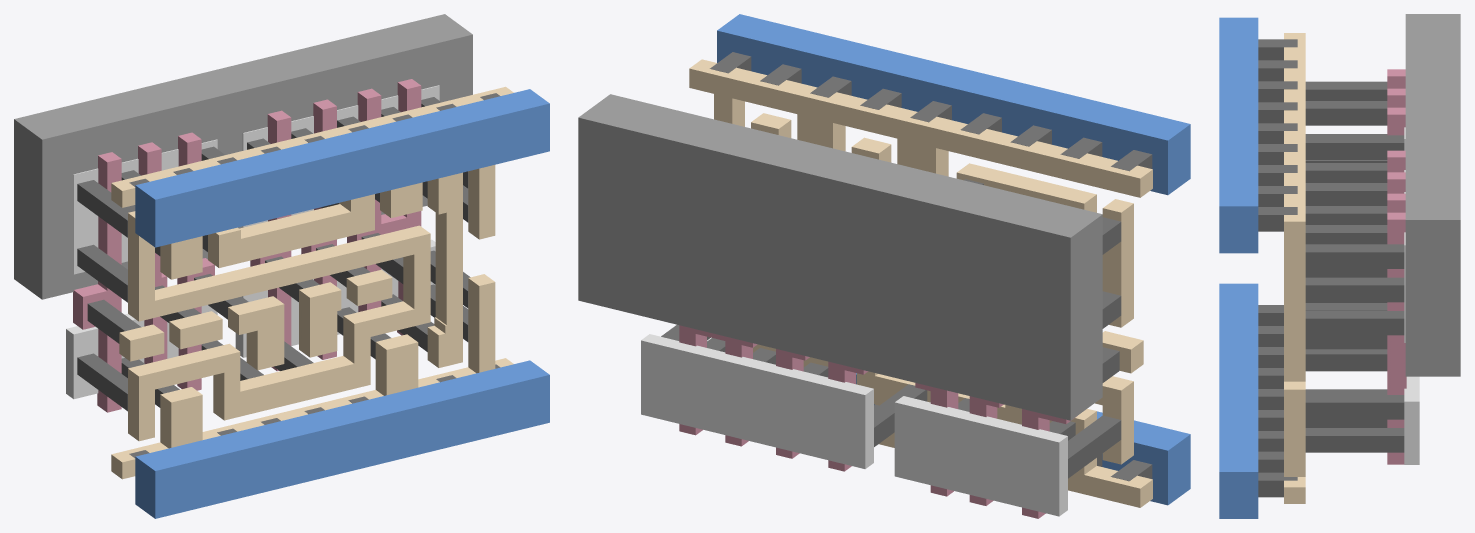
Rendered from sky130_fd_sc_hd__a221o_2.gds.gltf.
3 views of the same model, side by side, from view 1: azimuth 30°, elevation 25°; view 2: azimuth 150°, elevation 25°; view 3: azimuth 270°, elevation 25° (orthographic). The views are drawn at different scales.
Visible parts, largest first — view 1: sky130_fd_sc_hd__a221o_2_li1, sky130_fd_sc_hd__a221o_2_met1, sky130_fd_sc_hd__a221o_2_nwell, sky130_fd_sc_hd__a221o_2_licon, sky130_fd_sc_hd__a221o_2_poly, sky130_fd_sc_hd__a221o_2_diff, sky130_fd_sc_hd__a221o_2_mcon; view 2: sky130_fd_sc_hd__a221o_2_nwell, sky130_fd_sc_hd__a221o_2_diff, sky130_fd_sc_hd__a221o_2_li1, sky130_fd_sc_hd__a221o_2_met1, sky130_fd_sc_hd__a221o_2_licon, sky130_fd_sc_hd__a221o_2_mcon, sky130_fd_sc_hd__a221o_2_poly; view 3: sky130_fd_sc_hd__a221o_2_licon, sky130_fd_sc_hd__a221o_2_nwell, sky130_fd_sc_hd__a221o_2_met1, sky130_fd_sc_hd__a221o_2_mcon, sky130_fd_sc_hd__a221o_2_li1, sky130_fd_sc_hd__a221o_2_poly, sky130_fd_sc_hd__a221o_2_diff.
Part boxes in pixels (bbox=[...]): sky130_fd_sc_hd__a221o_2_li1: bbox=[111, 86, 513, 479]; sky130_fd_sc_hd__a221o_2_met1: bbox=[135, 89, 549, 518]; sky130_fd_sc_hd__a221o_2_nwell: bbox=[14, 14, 472, 299]; sky130_fd_sc_hd__a221o_2_licon: bbox=[77, 97, 470, 411]; sky130_fd_sc_hd__a221o_2_poly: bbox=[73, 79, 421, 412]; sky130_fd_sc_hd__a221o_2_diff: bbox=[66, 85, 439, 399]; sky130_fd_sc_hd__a221o_2_mcon: bbox=[129, 93, 500, 457]; sky130_fd_sc_hd__a221o_2_nwell: bbox=[578, 94, 1102, 420]; sky130_fd_sc_hd__a221o_2_diff: bbox=[641, 334, 1067, 516]; sky130_fd_sc_hd__a221o_2_li1: bbox=[689, 59, 1152, 507]; sky130_fd_sc_hd__a221o_2_met1: bbox=[717, 14, 1190, 505]; sky130_fd_sc_hd__a221o_2_licon: bbox=[661, 179, 1121, 478]; sky130_fd_sc_hd__a221o_2_mcon: bbox=[710, 52, 1152, 481]; sky130_fd_sc_hd__a221o_2_poly: bbox=[679, 325, 1076, 518]; sky130_fd_sc_hd__a221o_2_licon: bbox=[1305, 81, 1404, 452]; sky130_fd_sc_hd__a221o_2_nwell: bbox=[1405, 14, 1460, 376]; sky130_fd_sc_hd__a221o_2_met1: bbox=[1219, 17, 1258, 518]; sky130_fd_sc_hd__a221o_2_mcon: bbox=[1258, 39, 1297, 497]; sky130_fd_sc_hd__a221o_2_li1: bbox=[1284, 33, 1305, 503]; sky130_fd_sc_hd__a221o_2_poly: bbox=[1387, 69, 1406, 464]; sky130_fd_sc_hd__a221o_2_diff: bbox=[1404, 127, 1419, 464].
Bounding box in the file's own units: 4.52 × 3.2 × 2.24.
